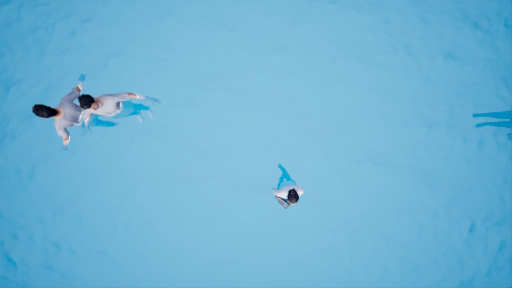person: (32, 79, 99, 153), (81, 88, 173, 135), (250, 157, 316, 211)
